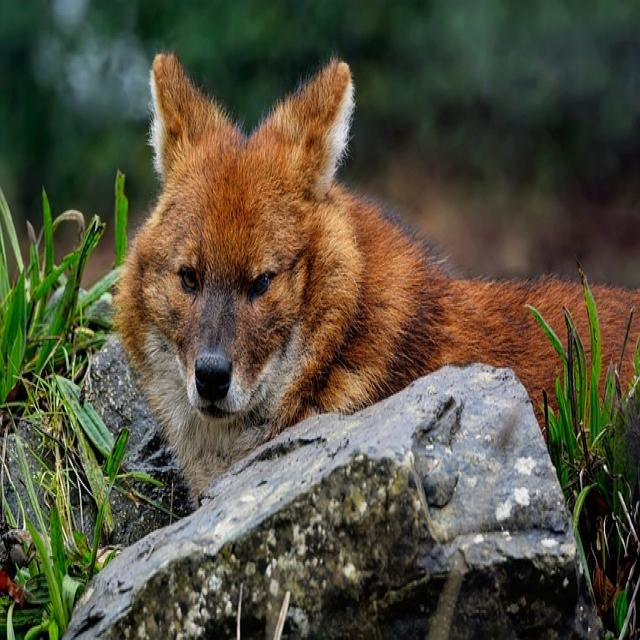Carnivorous: (112, 52, 590, 502)
